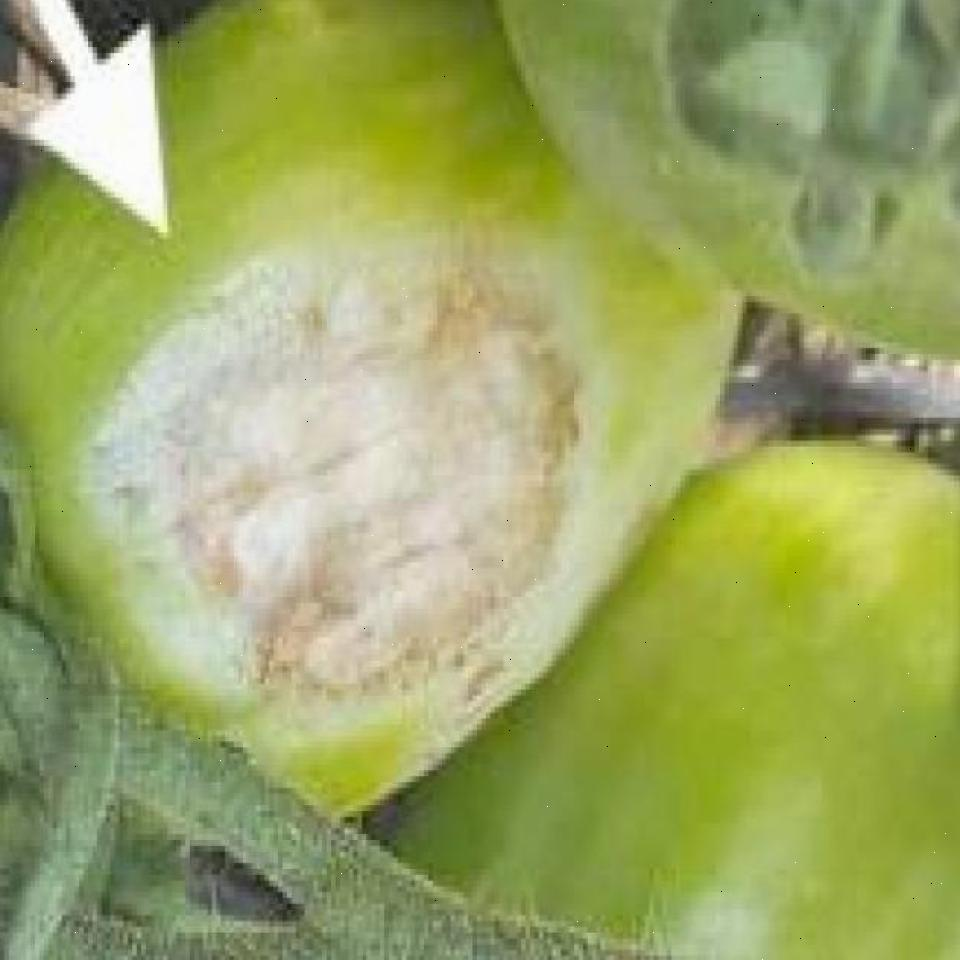Sunscald: (79, 206, 623, 745)
